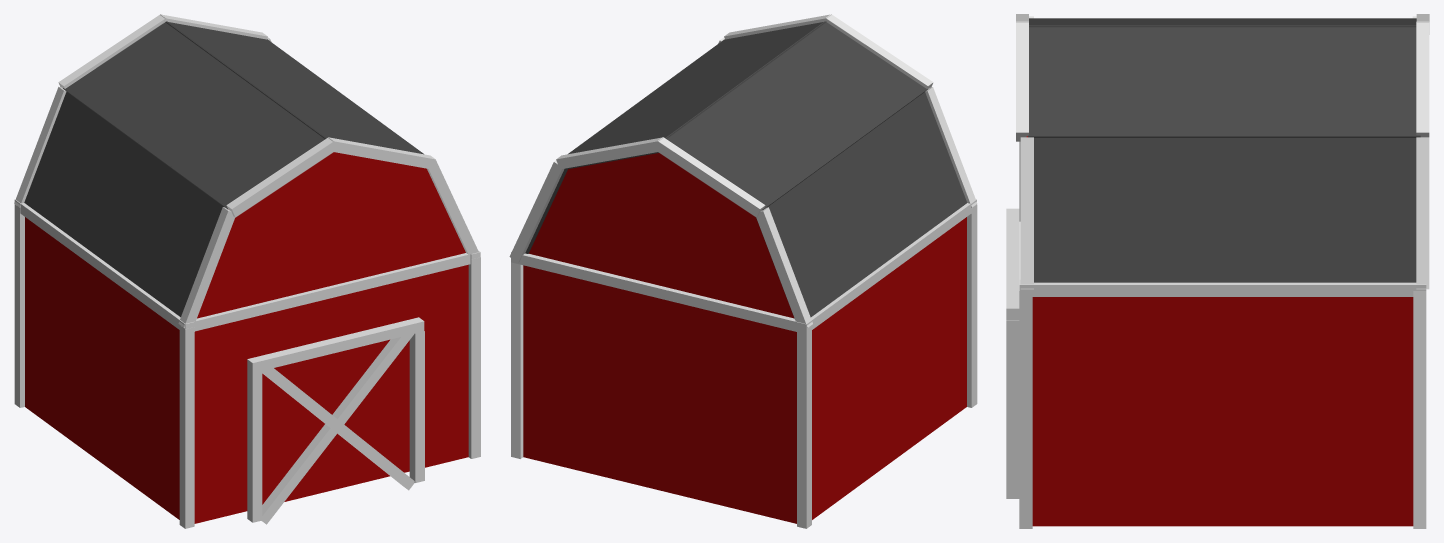
Rendered from barn.gltf.
The picture shows the model from 3 angles, left to right: view 1: azimuth 30°, elevation 25°; view 2: azimuth 150°, elevation 25°; view 3: azimuth 270°, elevation 25°; orthographic projection. The views are drawn at different scales.
Visible parts, largest first — view 1: Cube, Cylinder, Cube.025, Cube.011, Cube.009, Cube.005, Cube.024, Cube.002, Cube.020, Cube.004, Cube.022, Cube.021 (+10 smaller); view 2: Cube, Cylinder, Cube.025, Cube.011, Cube.009, Cube.006, Cube.001, Cube.003, Cube.008, Cube.002, Cube.019, Cube.013 (+5 smaller); view 3: Cube, Cube.010, Cube.009, Cube.007, Cube.025, Cube.004, Cube.003, Cube.021, Cube.015, Cube.014, Cube.016, Cube.020 (+1 smaller).
Part boxes in pixels (x1,y1,x2,y2): Cube: (25, 217, 468, 523); Cylinder: (197, 152, 465, 318); Cube.025: (63, 21, 326, 209); Cube.011: (24, 91, 223, 317); Cube.009: (165, 21, 423, 154); Cube.005: (179, 250, 479, 331); Cube.024: (261, 334, 413, 524); Cube.002: (179, 325, 194, 528); Cube.020: (247, 317, 424, 372); Cube.004: (468, 257, 480, 458); Cube.022: (247, 369, 262, 522); Cube.021: (409, 331, 424, 482); Cube: (523, 217, 966, 523); Cylinder: (529, 153, 793, 318); Cube.025: (665, 21, 927, 210); Cube.011: (756, 92, 966, 318); Cube.009: (564, 21, 826, 169); Cube.006: (520, 253, 811, 333); Cube.001: (797, 325, 811, 528); Cube.003: (511, 262, 523, 458); Cube.008: (796, 199, 976, 334); Cube.002: (967, 204, 977, 407); Cube.019: (654, 137, 765, 217); Cube.013: (756, 207, 812, 327); Cube: (1032, 297, 1413, 526); Cube.010: (1034, 137, 1416, 282); Cube.009: (1028, 25, 1420, 137); Cube.007: (1019, 279, 1426, 296); Cube.025: (1029, 18, 1416, 27); Cube.004: (1019, 285, 1032, 528); Cube.003: (1413, 291, 1426, 528); Cube.021: (1006, 320, 1019, 498); Cube.015: (1416, 137, 1429, 289); Cube.014: (1020, 137, 1033, 289); Cube.016: (1416, 21, 1429, 137); Cube.020: (1006, 208, 1019, 320).
Size of the model in its own units: 3.11 by 3.65 by 3.22.
